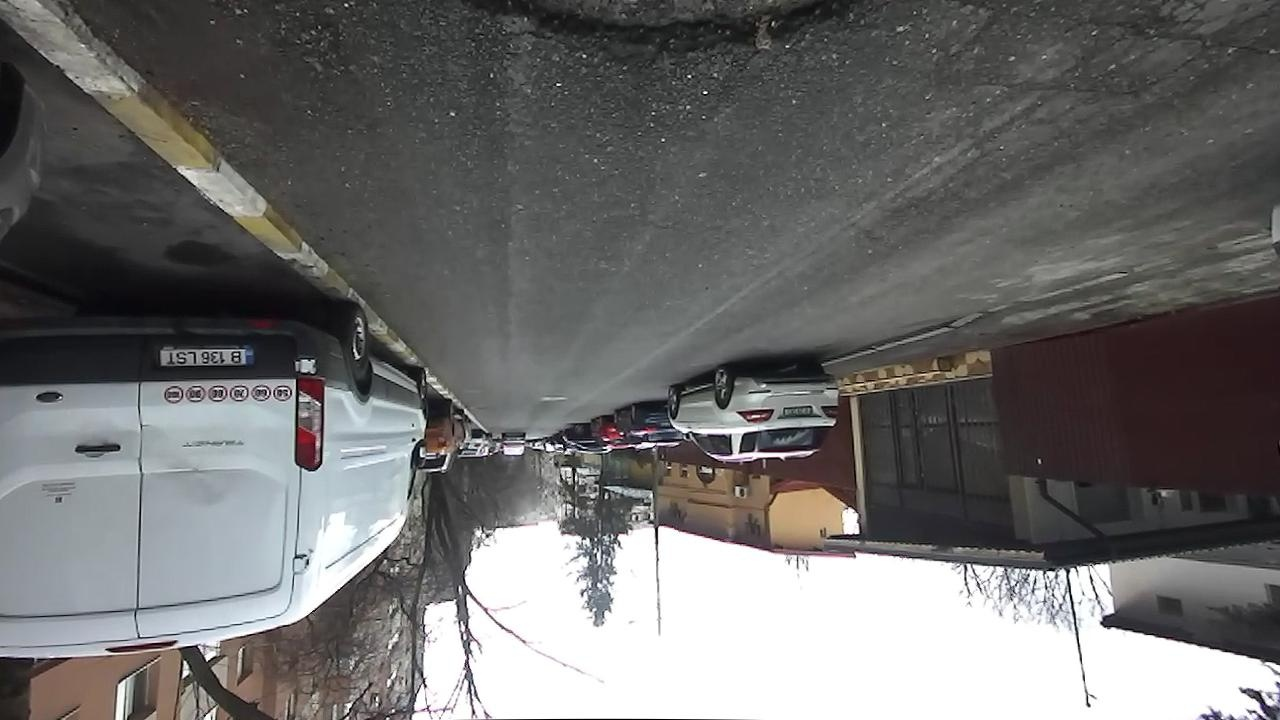pothole: (430, 0, 894, 62)
